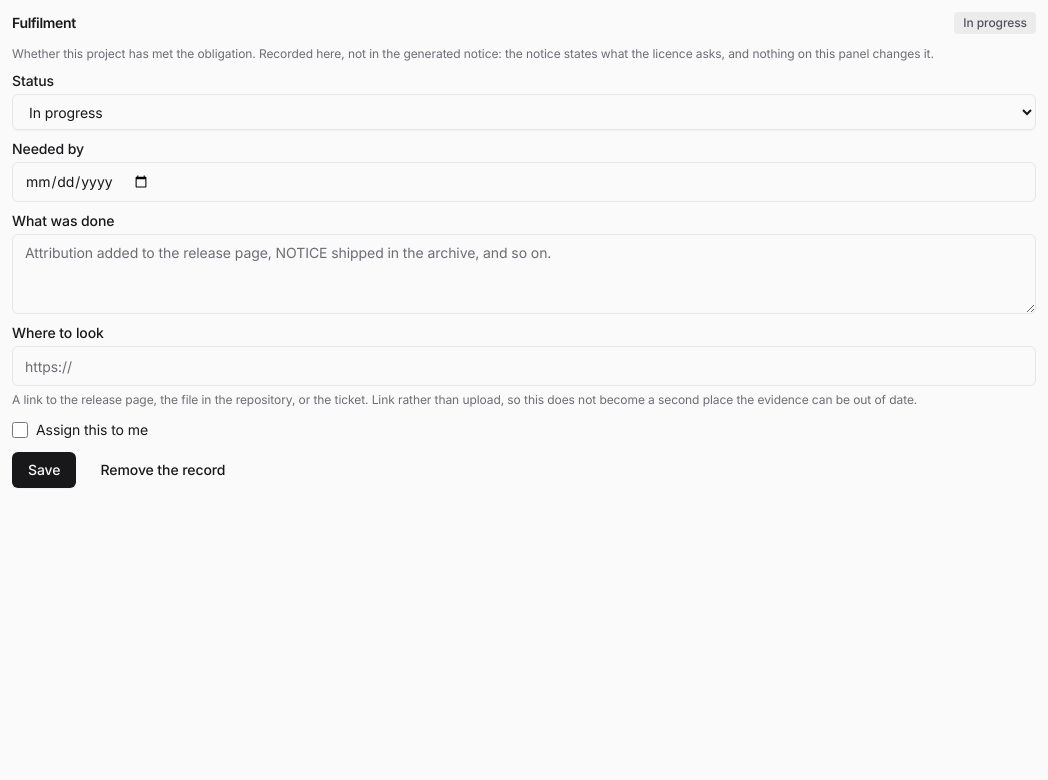
Test case: ObligationFulfilmentEditor › shows the server's refusal instead of reporting a save that did not happen
Click the button with test id "obligation-fulfilment-save".
click(44, 470)  # box [12, 452, 76, 488]
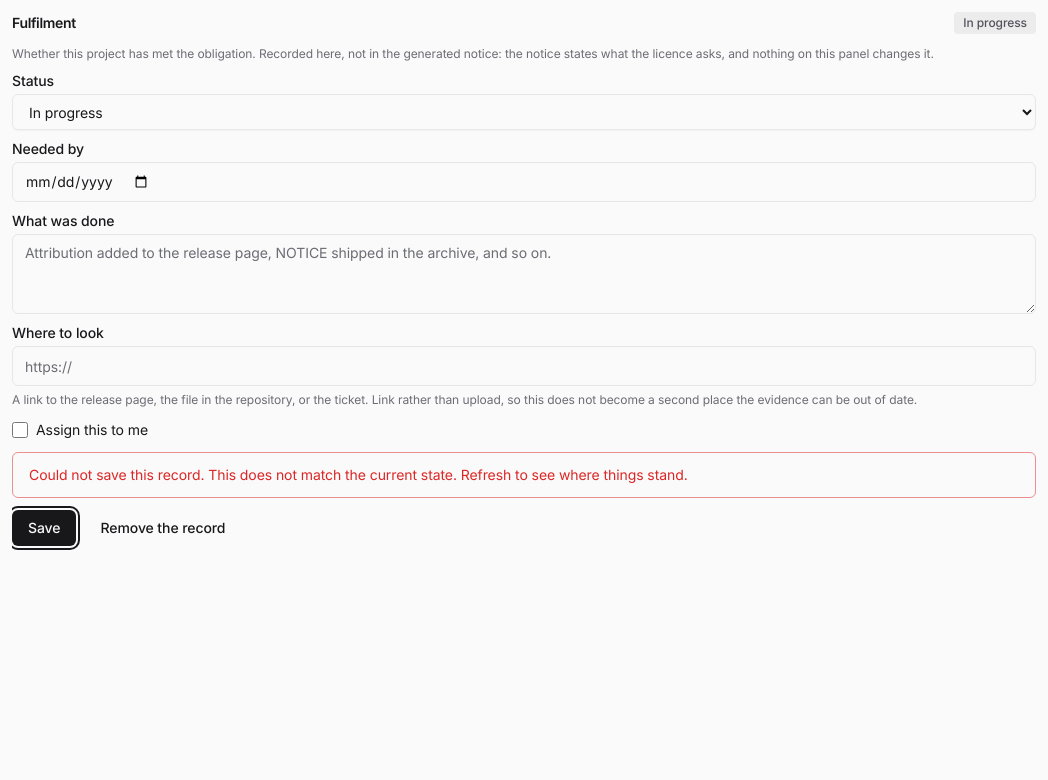
Result: the message with test id "obligation-fulfilment-error" shows "Refresh to see where things stand" at [29, 466, 688, 483]
